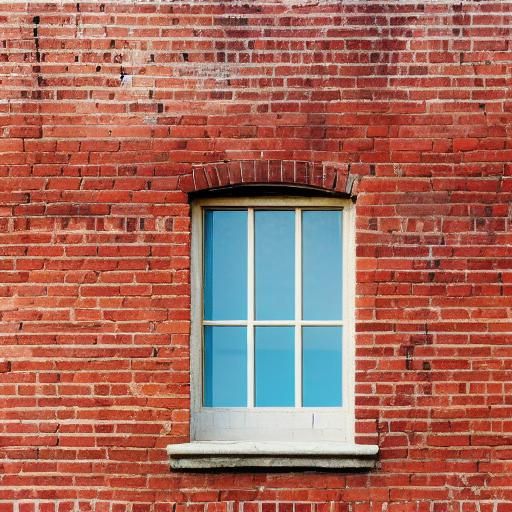Window: (165, 161, 383, 474)
